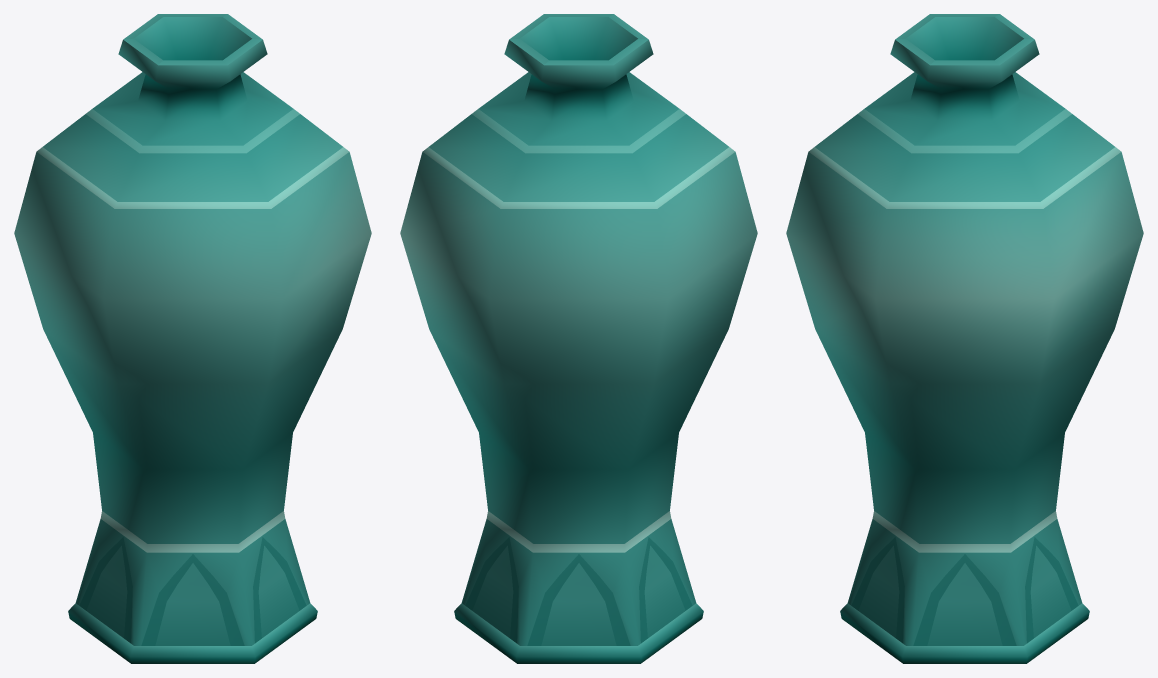
The model's file is SK_Porcelain_003.FBX.
3 views of the same model, side by side, from view 1: azimuth 30°, elevation 25°; view 2: azimuth 150°, elevation 25°; view 3: azimuth 270°, elevation 25° (orthographic).
Parts seen in each view (by area): view 1: SK_Porcelain_003; view 2: SK_Porcelain_003; view 3: SK_Porcelain_003.
Part boxes in pixels (x1,y1,x2,y2): SK_Porcelain_003: (14,14,371,663); SK_Porcelain_003: (400,14,757,663); SK_Porcelain_003: (786,14,1143,663).
Bounding box in the file's own units: 22.96 × 47.45 × 26.51.
1 material, 1 textured.
